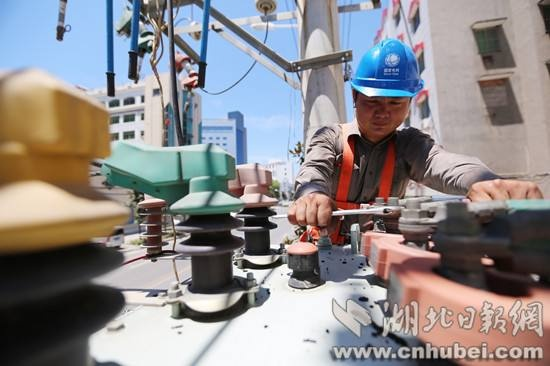blue: (346, 35, 424, 144)
